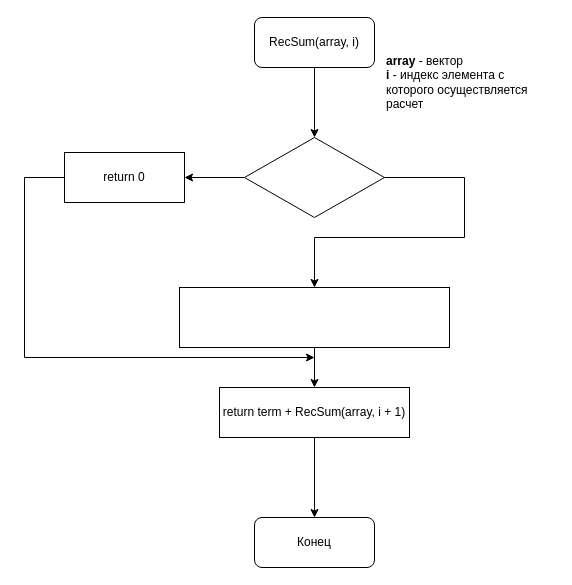
Image size: 572x585. Some labels were removed from this diagram. The box of each missing label's shape, as (x1, y1, x2, y2) in pixels:
if (i >= длина(array)): (244, 136, 384, 218)
term = 1.0 / ((array[i] - 1) * array[i] * (array[i] + 1)): (178, 286, 450, 348)
